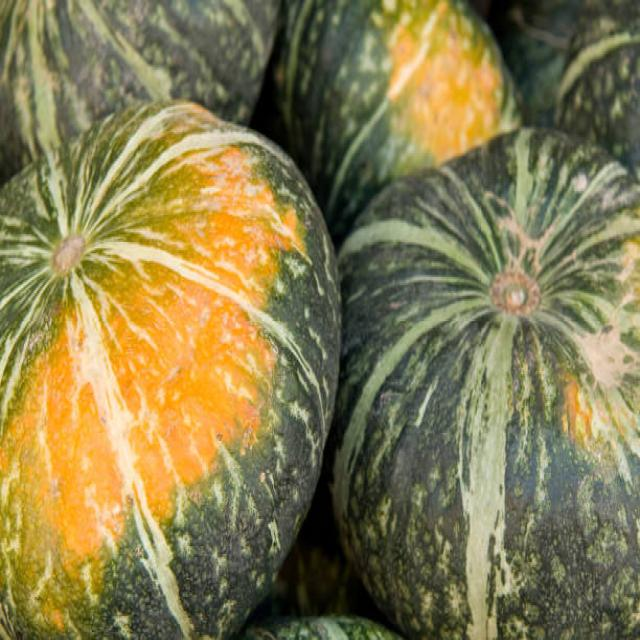pumpkin: (0, 110, 320, 640), (341, 135, 640, 640)
